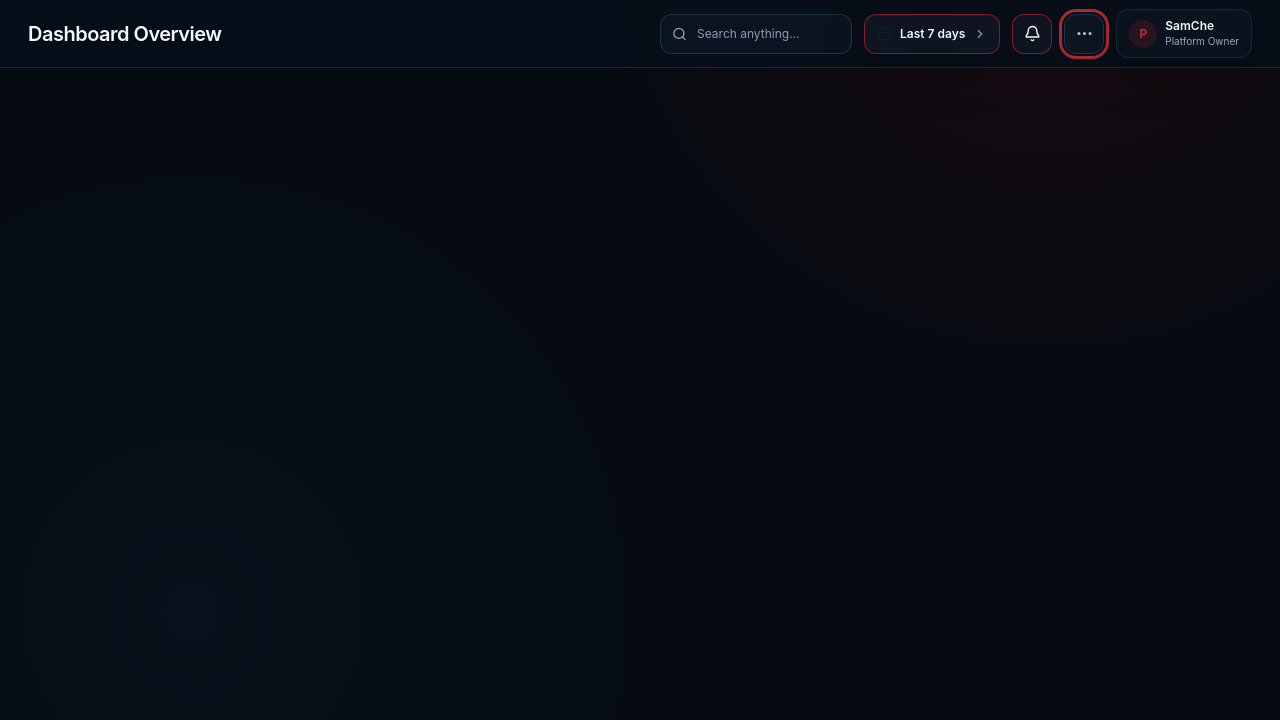
Test case: Topbar global navigation search › keeps every OWNER workspace action reachable from the compact action surface
Click the button named "Workspace actions".
click(1084, 34)  # box [1064,14,1104,54]
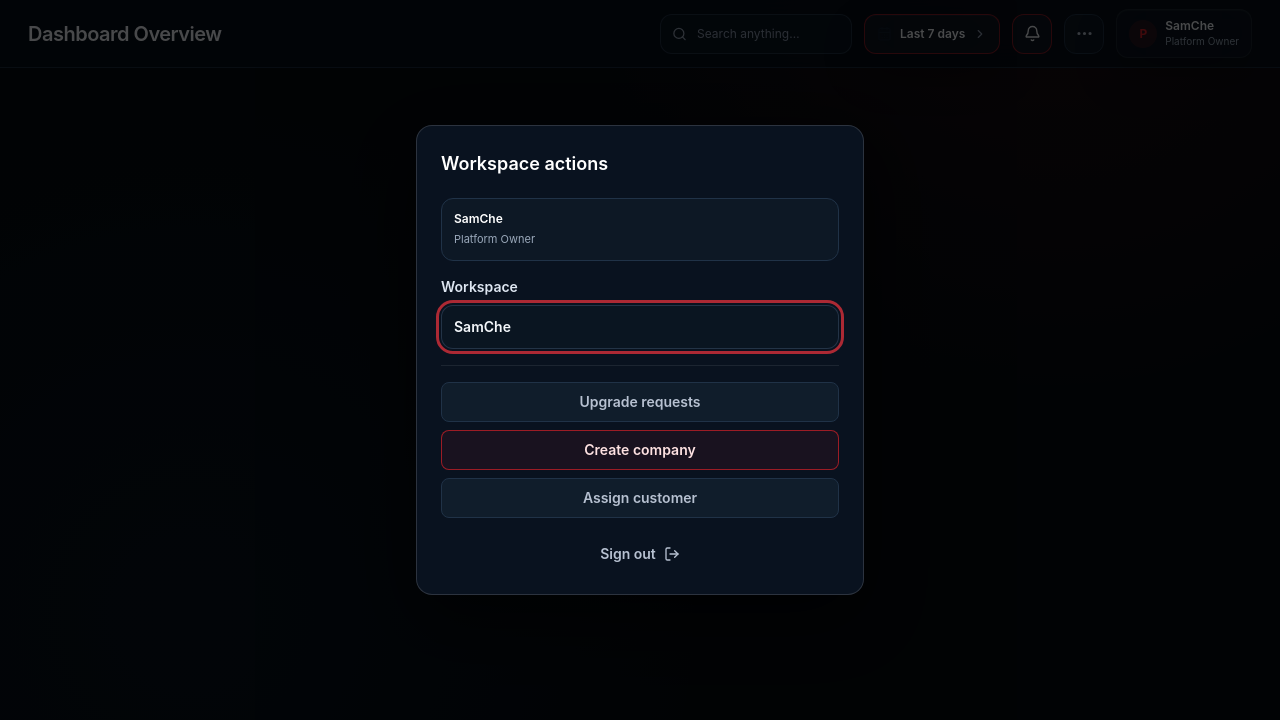
Expected: the dialog "Workspace actions" is shown, [416,125,864,595]
Expected: the dropdown named "Selected tenant" is shown, [441,305,839,349]
Expected: the button "Upgrade requests" is shown, [441,382,839,422]
Press Escape
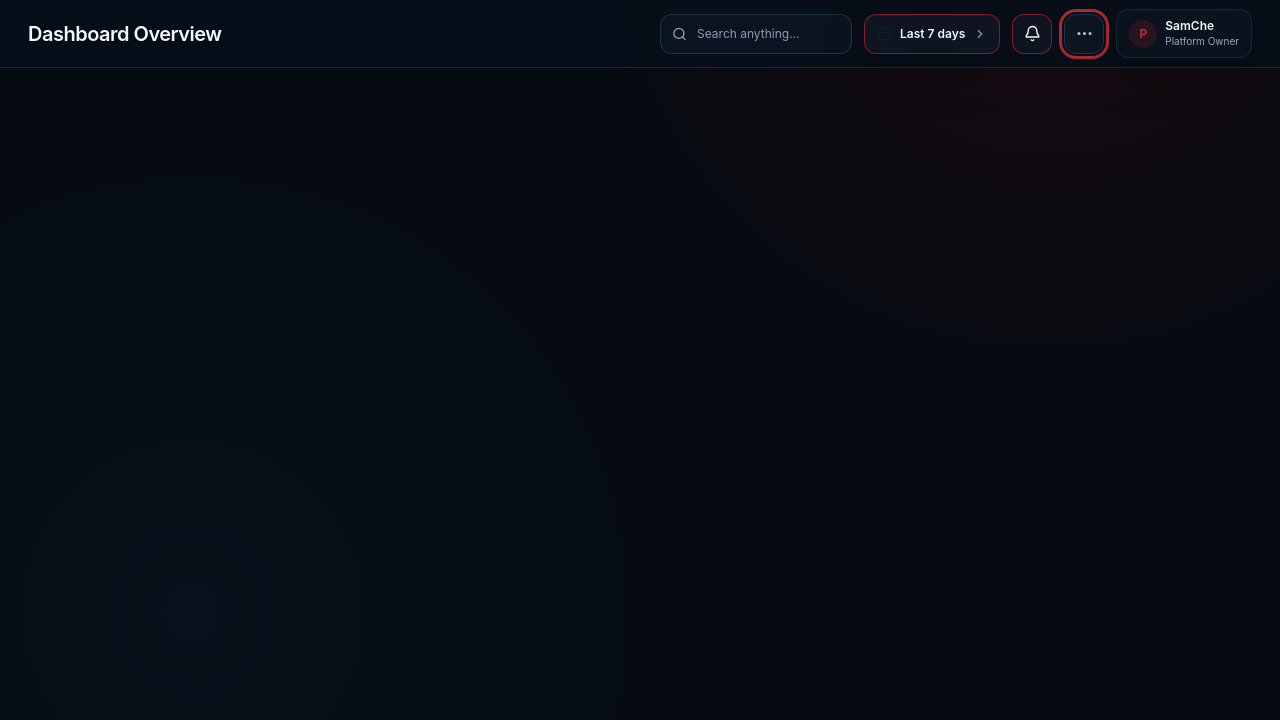
Expected: the heading "Workspace actions" is gone
